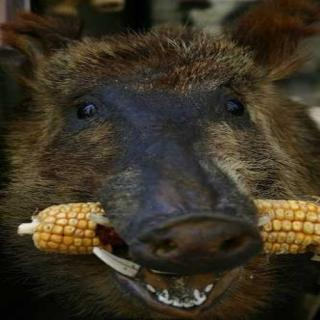Pig: (12, 3, 320, 320)
